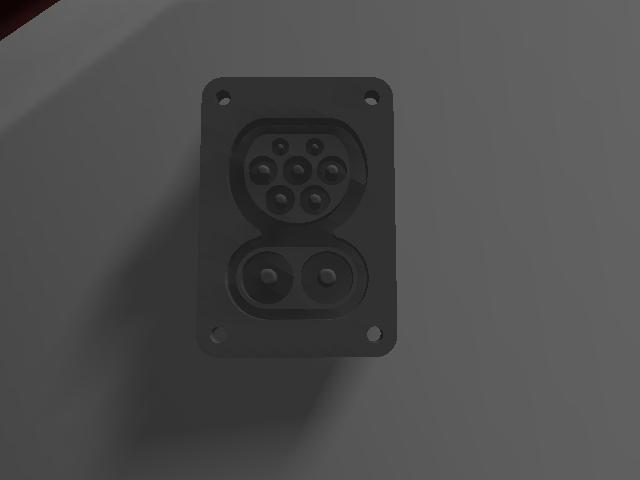EV-socket: (192, 71, 400, 363)
